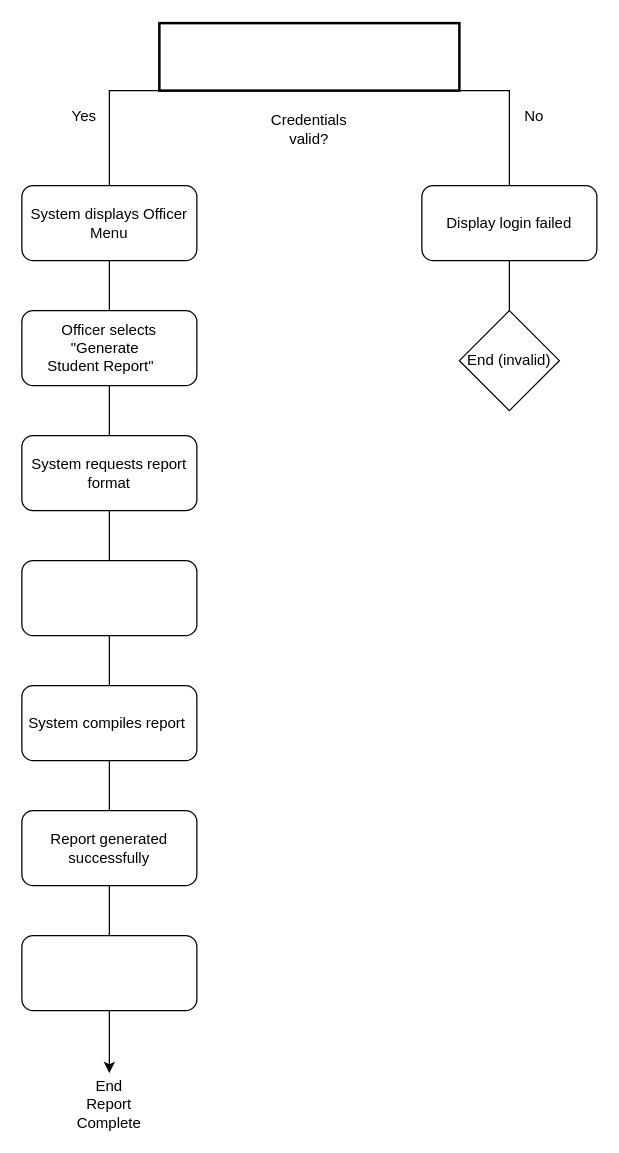
Some shapes in this 619 by 1153 pixel diagram are drawn without their labels. The shapes that lost their labels are listed below. From the top down, each one's centre as x and y in pixels, then its label:
pixel 309 56: Officer Enters Login
pixel 109 597: System retrieves student data
pixel 109 972: Send report via email
